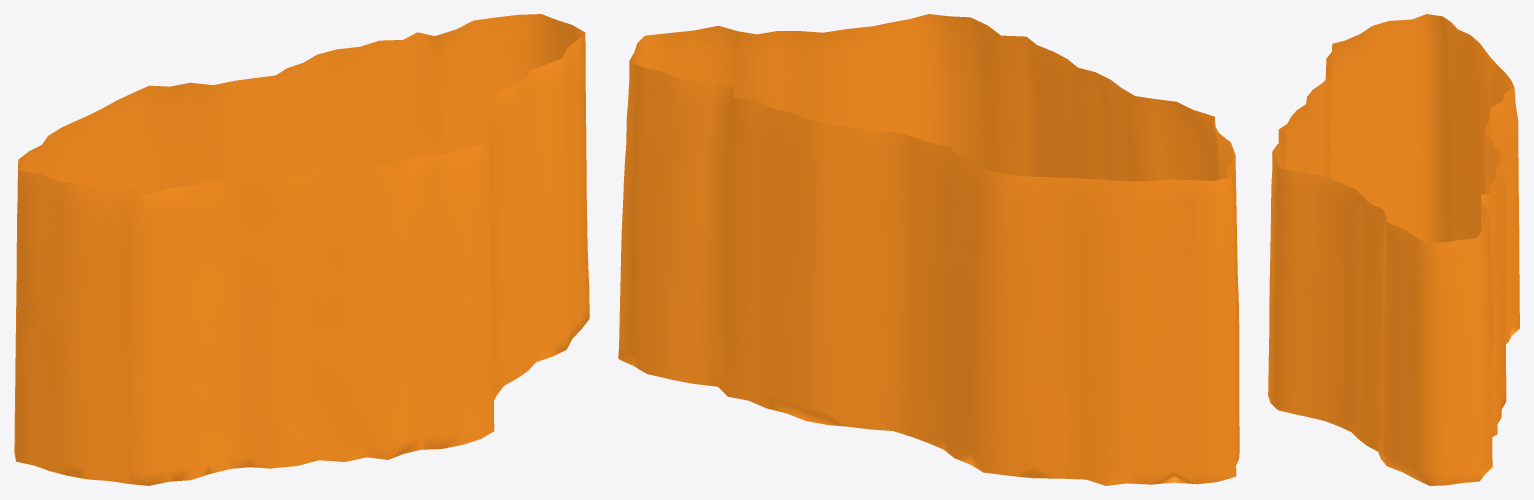
Rendered from farm_hover.glb.
The picture shows the model from 3 angles, left to right: view 1: azimuth 30°, elevation 25°; view 2: azimuth 150°, elevation 25°; view 3: azimuth 270°, elevation 25°; orthographic projection. The views are drawn at different scales.
Visible parts, largest first — view 1: farm_hover; view 2: farm_hover; view 3: farm_hover.
Part boxes in pixels (bbox=[...]): farm_hover: bbox=[14, 14, 589, 485]; farm_hover: bbox=[618, 14, 1239, 485]; farm_hover: bbox=[1268, 14, 1519, 485].
Size of the model in its own units: 2.56 by 1.24 by 1.17.
Materials: 1 (1 with a texture image).
